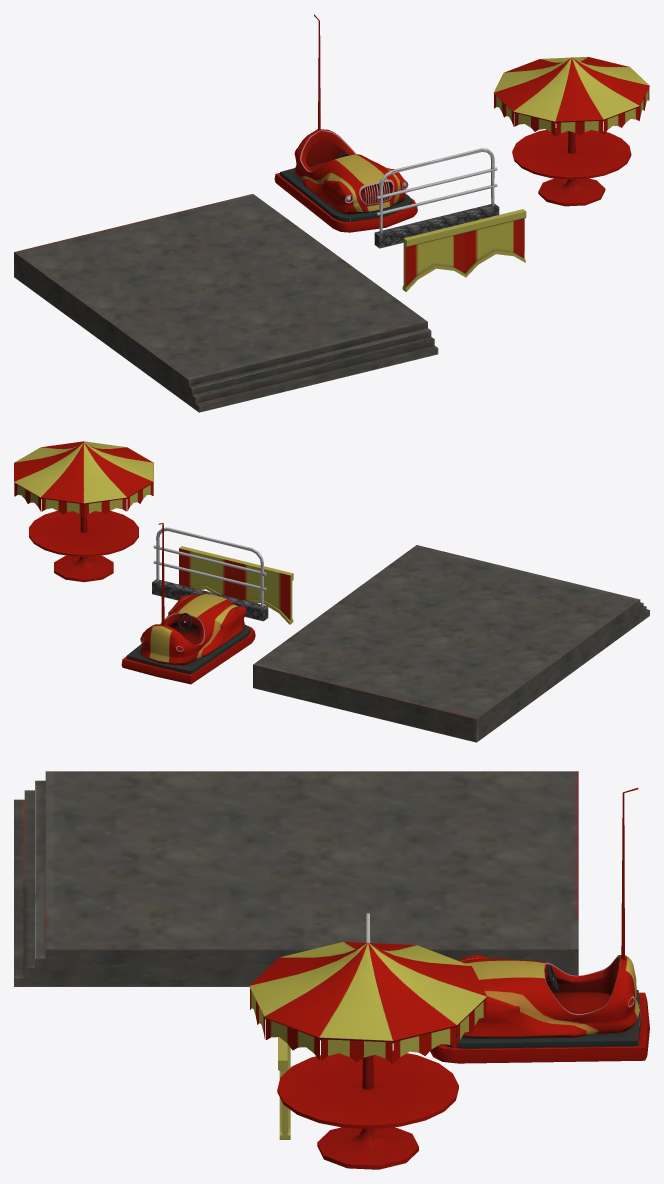
The model's file is OtherObj.fbx.
3 renders of one model, top to bottom at view 1: azimuth 30°, elevation 25°; view 2: azimuth 150°, elevation 25°; view 3: azimuth 270°, elevation 25°, orthographic. The views are drawn at different scales.
Visible parts, largest first — view 1: Platform, Table2, Cart, Roof, Railing; view 2: Platform, Table2, Cart, Roof, Railing; view 3: Platform, Table2, Cart, Roof.
Boxes of the visible parts, x1,y1,x2,y2 form: Platform: (14,194,438,412); Table2: (493,57,649,206); Cart: (274,14,417,232); Roof: (402,209,526,291); Railing: (374,148,499,248); Platform: (253,545,649,742); Table2: (14,441,153,582); Cart: (121,523,255,684); Roof: (179,546,293,624); Railing: (152,527,268,621); Platform: (14,771,578,986); Table2: (249,942,487,1169); Cart: (430,787,649,1063); Roof: (278,1037,290,1139).
Bounding box in the file's own units: 0.2323 × 0.0742 × 0.1512.
Materials: 1 (1 with a texture image).
